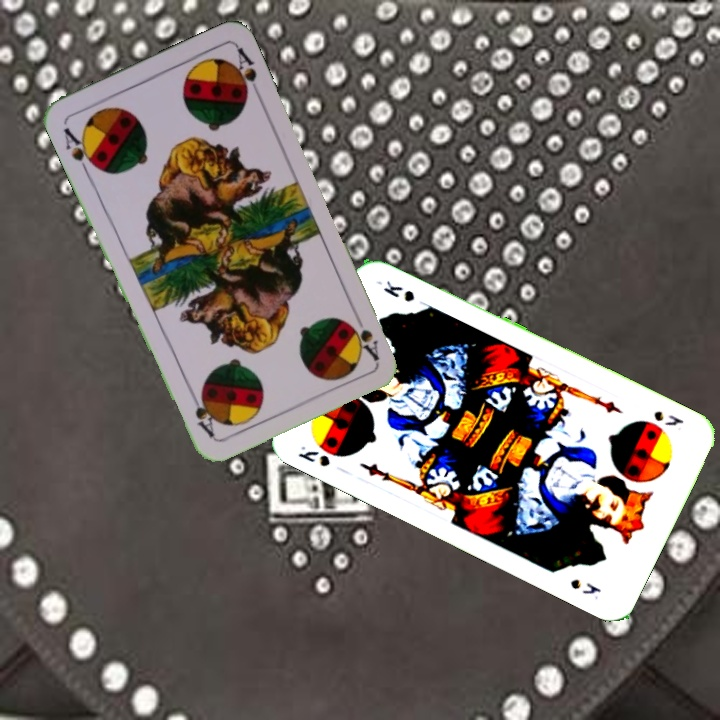SA: (343, 308, 382, 364), (59, 123, 100, 176)
SK: (294, 441, 333, 470), (649, 406, 686, 429)
